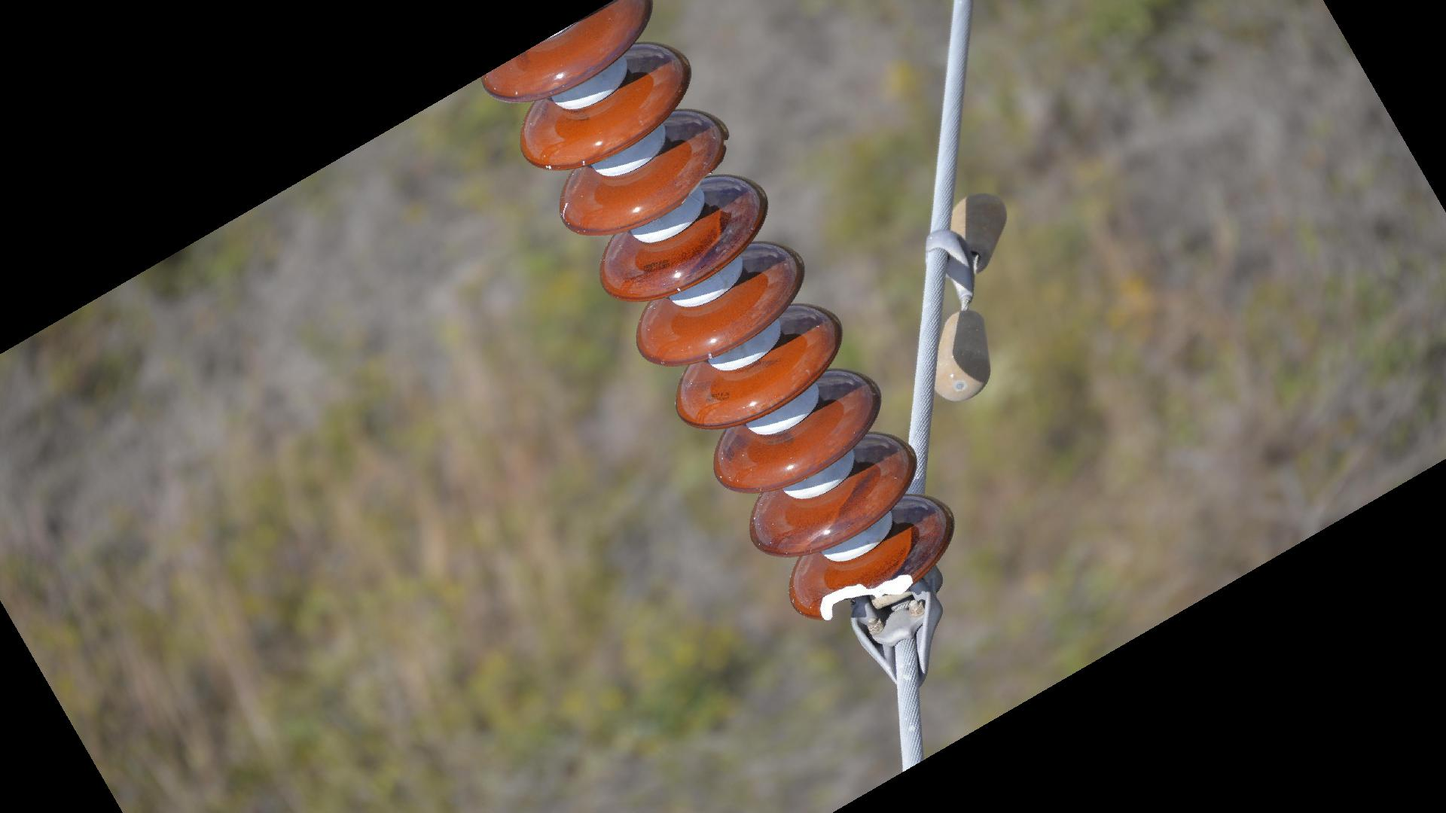insulator: (479, 1, 959, 630)
insulator_breakage: (812, 566, 920, 627)
